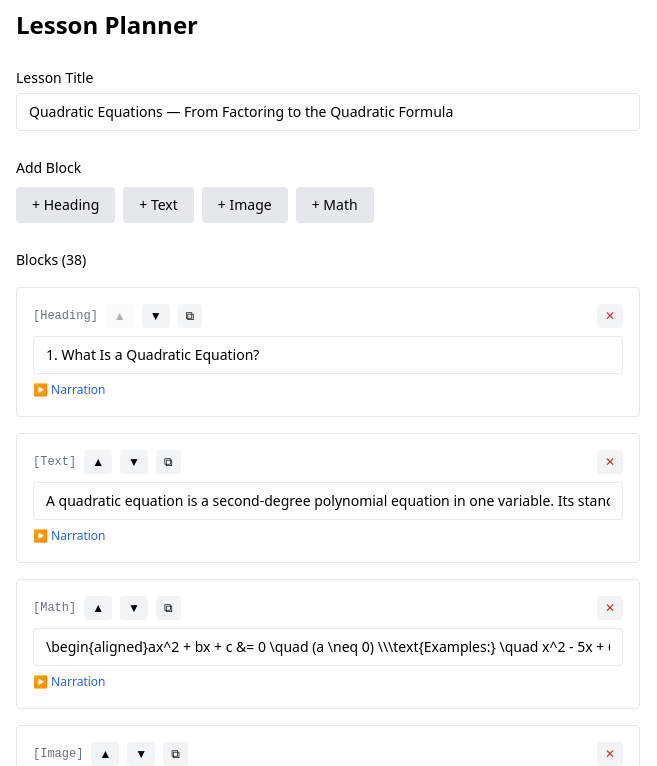
Test: LessonPlanner › adds a math block to existing seed blocks
Click the button "+ Math" at (335, 205), box [296,187,374,223]
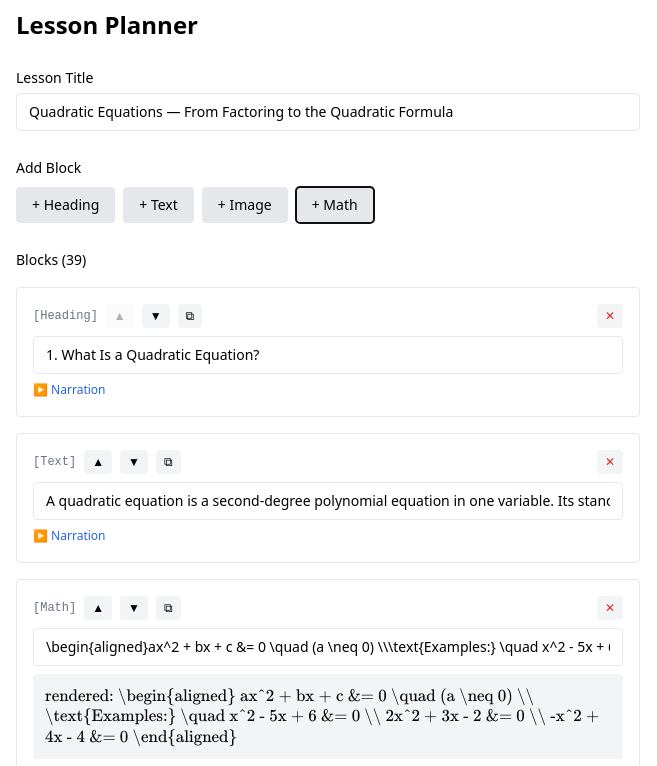
Now the text "[Math]" is shown 12 times
Now the text "Blocks (39)" is shown, box [16,250,86,269]
